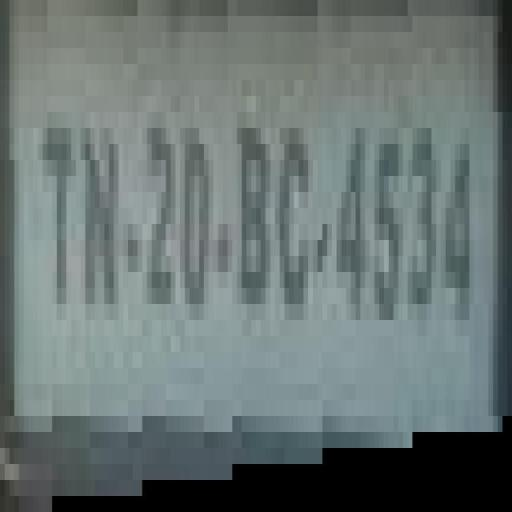number plate: (18, 32, 512, 464)
